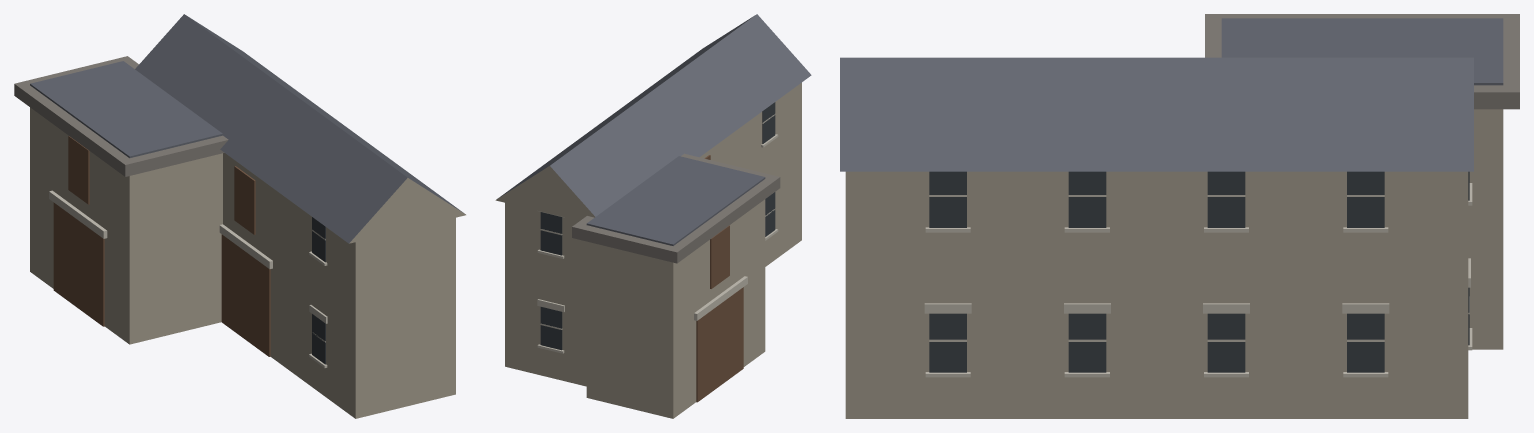
Rendered from house_2120_prairie_coach_house__draft_1904.glb.
3 views of the same model, side by side, from view 1: azimuth 30°, elevation 25°; view 2: azimuth 150°, elevation 25°; view 3: azimuth 270°, elevation 25° (orthographic). The views are drawn at different scales.
Visible parts, largest first — view 1: house_2120_prairie_coach_house__draft_1904; view 2: house_2120_prairie_coach_house__draft_1904; view 3: house_2120_prairie_coach_house__draft_1904.
Boxes of the visible parts, <box> form: house_2120_prairie_coach_house__draft_1904: <box>14,14,465,418</box>; house_2120_prairie_coach_house__draft_1904: <box>495,14,811,418</box>; house_2120_prairie_coach_house__draft_1904: <box>840,14,1519,418</box>.
Bounding box in the file's own units: 7.4 × 7.67 × 14.47.
